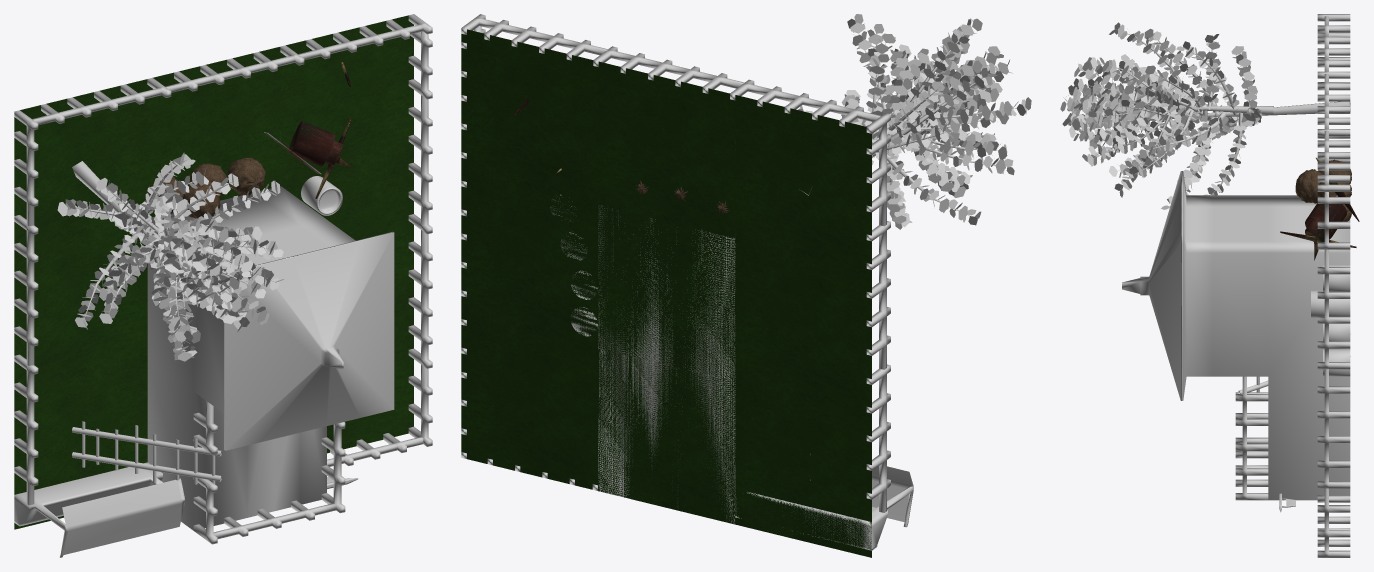
File: Kaufladen_dim_30x30.fbx
3 views of the same model, side by side, from view 1: azimuth 30°, elevation 25°; view 2: azimuth 150°, elevation 25°; view 3: azimuth 270°, elevation 25° (orthographic). The views are drawn at different scales.
Parts seen in each view (by area): view 1: Kaufladen, Baum_1_1, Grasplane3, Grasplane7, Grasplane6, Grasplane2, Grasplane8, Grasplane4, Grasplane5, Kaputter_Flugmotor1, Tumbleweed_1_1, Tumbleweed_1_3; view 2: Kaufladen, GrasPlane1, Grasplane4, Grasplane9, Grasplane7, Grasplane5, Grasplane2, Grasplane8, Grasplane3, Grasplane6, Baum_1_1; view 3: Kaufladen, Baum_1_1, Kaputter_Flugmotor1, Tumbleweed_1_3.
Part boxes in pixels (bbox=[...]): Kaufladen: bbox=[14, 14, 432, 557]; Baum_1_1: bbox=[57, 152, 283, 361]; Grasplane3: bbox=[281, 15, 413, 185]; Grasplane7: bbox=[14, 226, 147, 390]; Grasplane6: bbox=[14, 79, 147, 250]; Grasplane2: bbox=[147, 47, 280, 217]; Grasplane8: bbox=[14, 358, 147, 529]; Grasplane4: bbox=[281, 153, 413, 297]; Grasplane5: bbox=[327, 293, 413, 453]; Kaputter_Flugmotor1: bbox=[264, 62, 353, 198]; Tumbleweed_1_1: bbox=[227, 157, 265, 195]; Tumbleweed_1_3: bbox=[183, 182, 220, 218]; Kaufladen: bbox=[461, 14, 913, 550]; GrasPlane1: bbox=[598, 204, 735, 380]; Grasplane4: bbox=[461, 171, 598, 347]; Grasplane9: bbox=[598, 348, 735, 524]; Grasplane7: bbox=[735, 238, 871, 414]; Grasplane5: bbox=[461, 314, 598, 490]; Grasplane2: bbox=[598, 61, 735, 237]; Grasplane8: bbox=[735, 381, 871, 557]; Grasplane3: bbox=[461, 29, 598, 204]; Grasplane6: bbox=[735, 95, 871, 271]; Baum_1_1: bbox=[790, 14, 1031, 229]; Kaufladen: bbox=[1122, 14, 1350, 557]; Baum_1_1: bbox=[1060, 22, 1350, 209]; Kaputter_Flugmotor1: bbox=[1280, 157, 1359, 260]; Tumbleweed_1_3: bbox=[1295, 169, 1323, 203].
Bounding box in the file's own units: 32.26 × 30.48 × 21.94.
